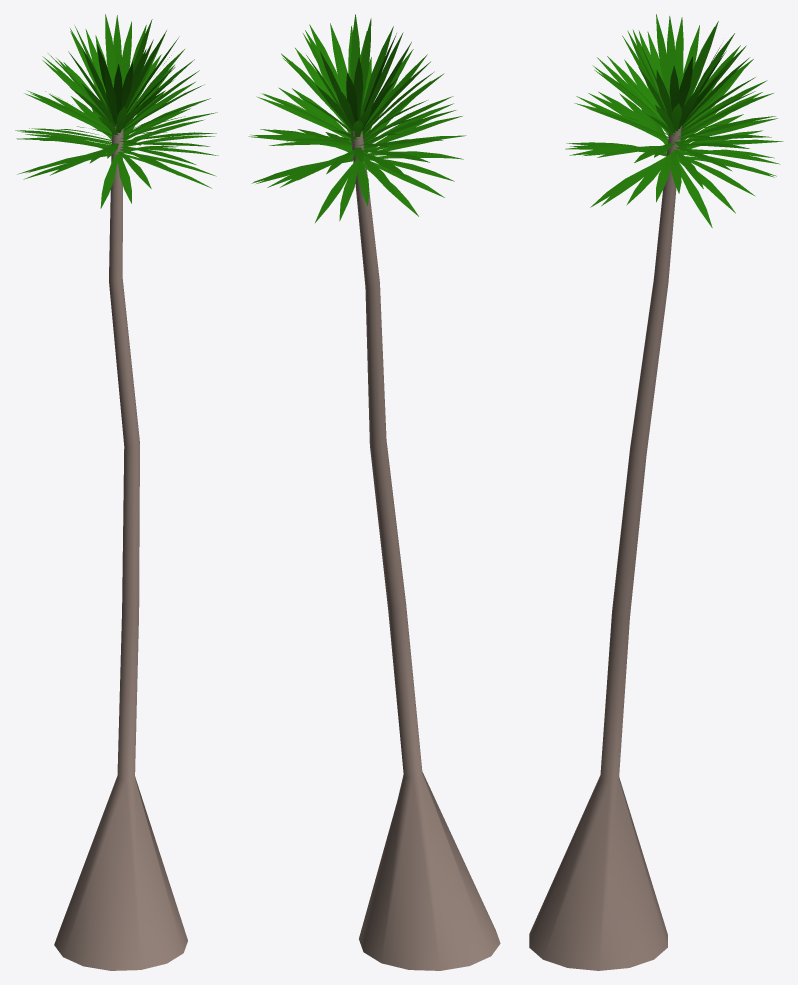
File: YukaTree_02.fbx
3 renders of one model, left to right at view 1: azimuth 30°, elevation 25°; view 2: azimuth 150°, elevation 25°; view 3: azimuth 270°, elevation 25°, orthographic. The views are drawn at different scales.
Parts seen in each view (by area): view 1: Foliage001; view 2: Foliage001; view 3: Foliage001.
Boxes of the visible parts, x1=… form: Foliage001: x1=15, y1=14, x2=218, y2=970; Foliage001: x1=248, y1=14, x2=500, y2=970; Foliage001: x1=529, y1=14, x2=783, y2=970.
Size of the model in its own units: 74.67 by 85.76 by 345.
